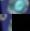mirror: (1, 14, 12, 31), (0, 0, 12, 14)
